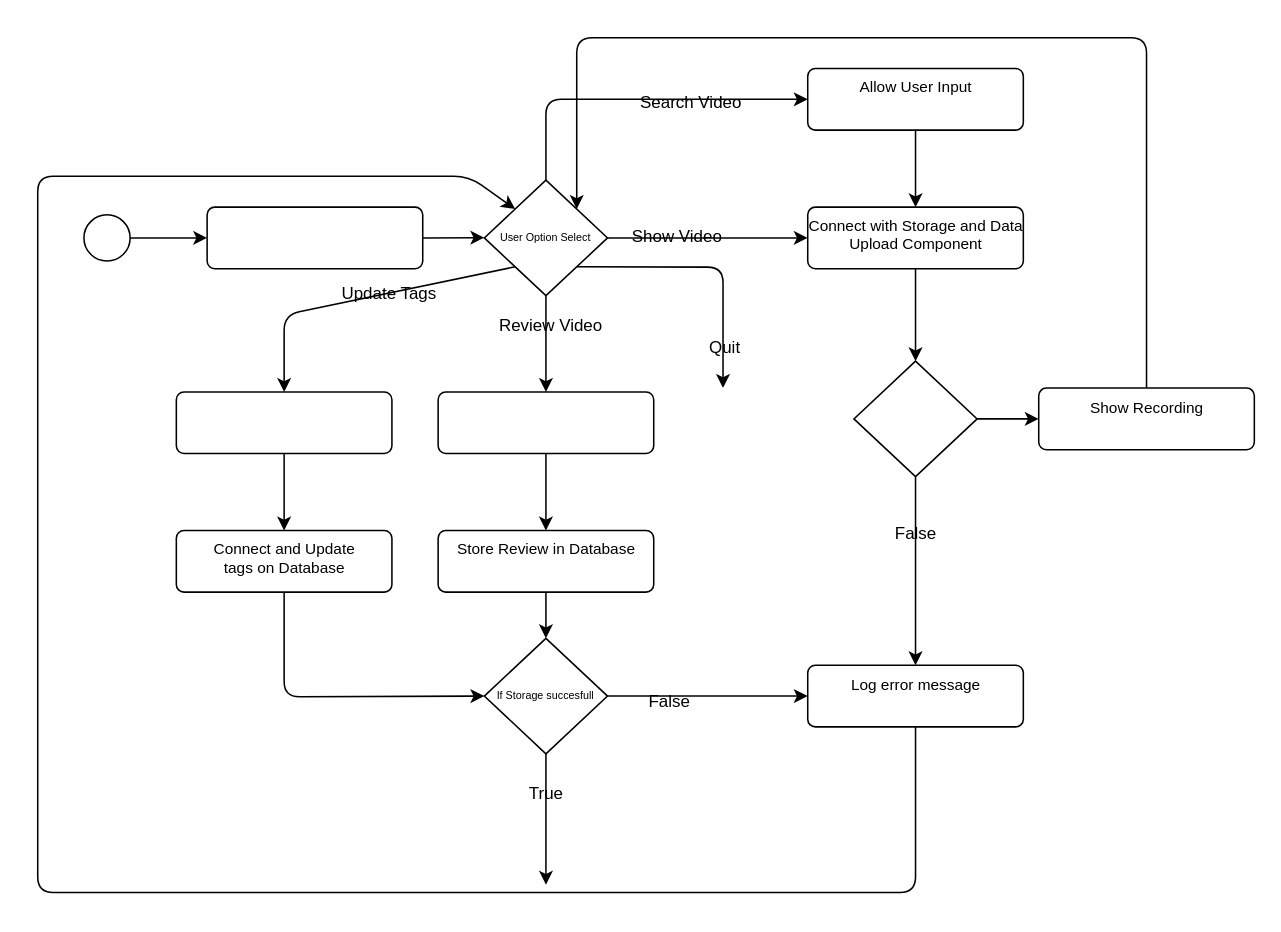
Some shapes in this 1281 by 932 pixel diagram are drawn without their labels. Each missing label, with the centre of its shape:
"If connection succesfull" belongs at (x=914, y=418).
"Log In" belongs at (x=314, y=237).
"Open Review Pop Up" belongs at (x=545, y=422).
"Open Tag Pop up" belongs at (x=283, y=422).
